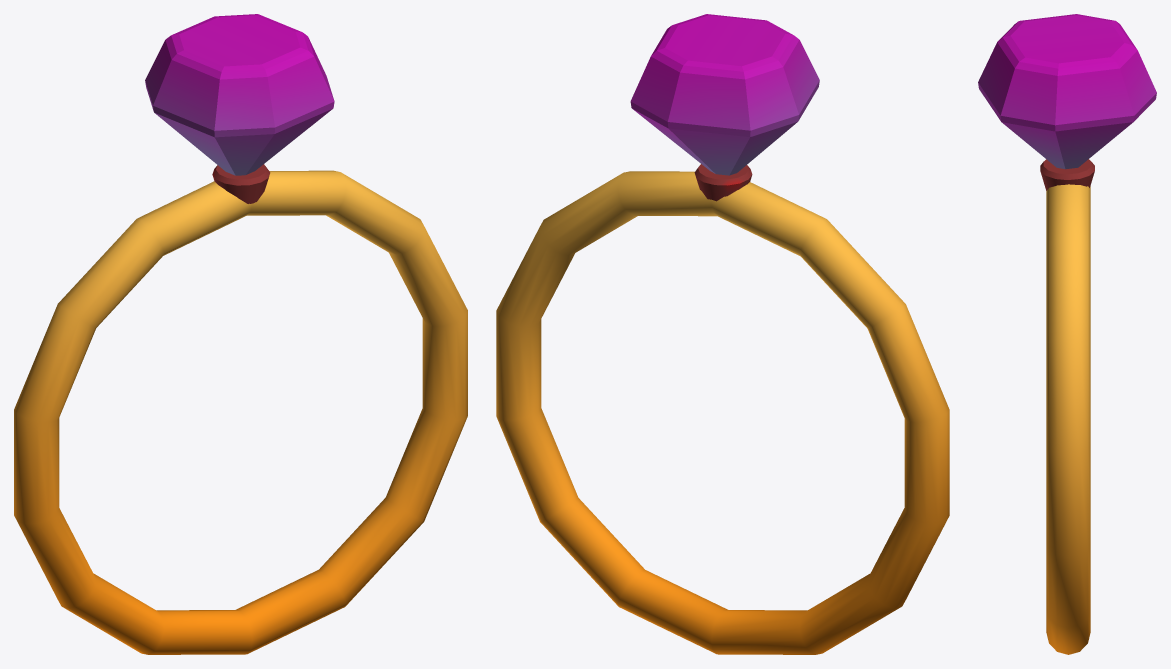
File: Ring_1.fbx
The picture shows the model from 3 angles, left to right: view 1: azimuth 30°, elevation 25°; view 2: azimuth 150°, elevation 25°; view 3: azimuth 270°, elevation 25°; orthographic projection. The views are drawn at different scales.
Parts seen in each view (by area): view 1: Ring_1; view 2: Ring_1; view 3: Ring_1.
Part boxes in pixels (x1,y1,x2,y2): Ring_1: (14,14,467,654); Ring_1: (496,14,949,654); Ring_1: (978,14,1156,654).
Bounding box in the file's own units: 0.2286 × 0.2992 × 0.0821.
